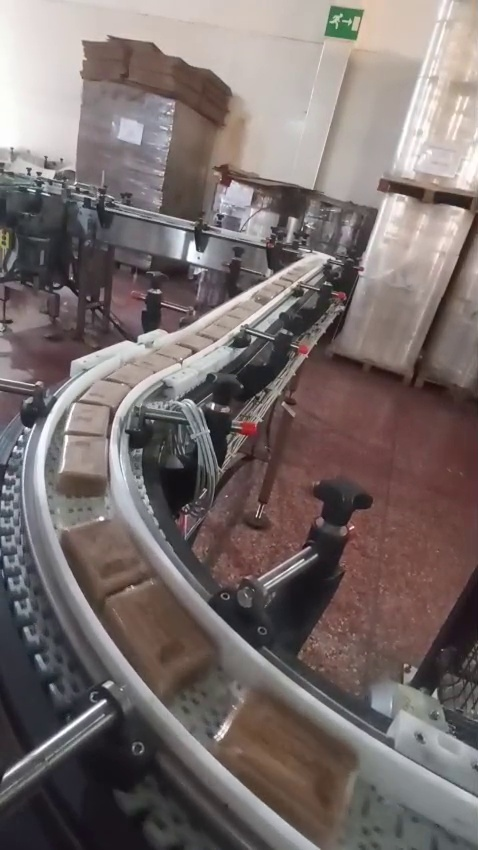savon: (75, 544, 216, 700), (214, 692, 357, 842), (170, 102, 246, 207), (347, 0, 376, 76), (166, 62, 226, 92), (444, 254, 466, 312), (360, 660, 406, 683), (62, 472, 100, 498), (420, 182, 444, 204), (461, 197, 478, 216), (84, 56, 96, 81), (0, 229, 12, 252), (136, 41, 159, 52)
